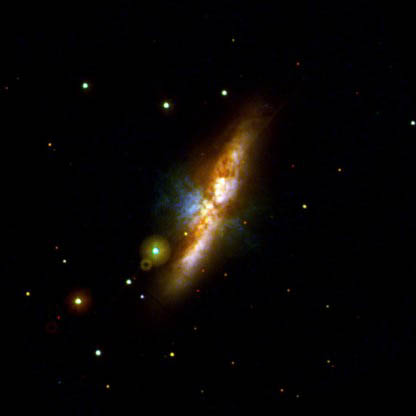Messier 82: (140, 79, 288, 303)
